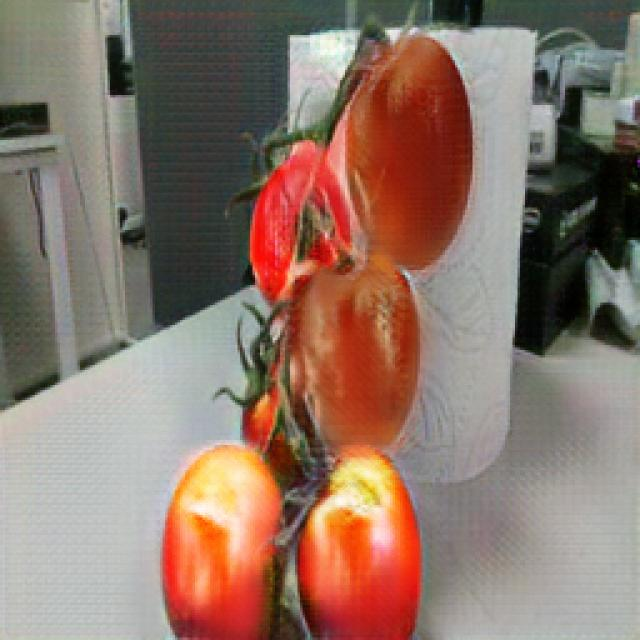overripe tomato: (298, 258, 419, 446), (242, 143, 357, 300)
